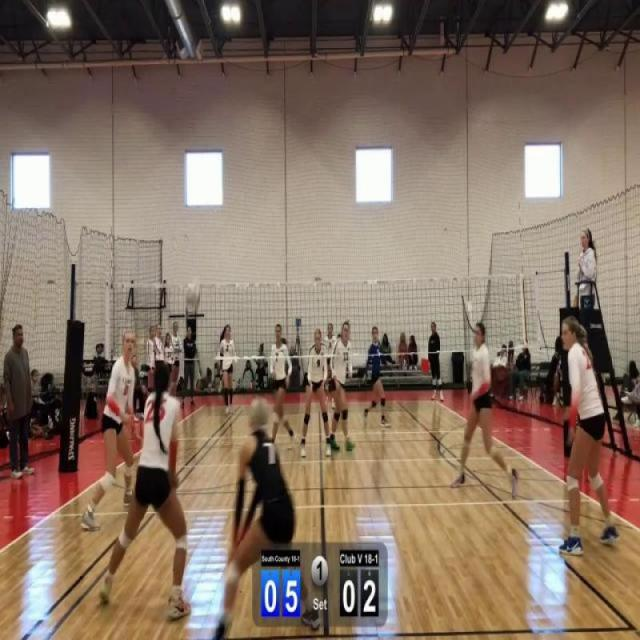volleyball: (182, 280, 202, 316)
